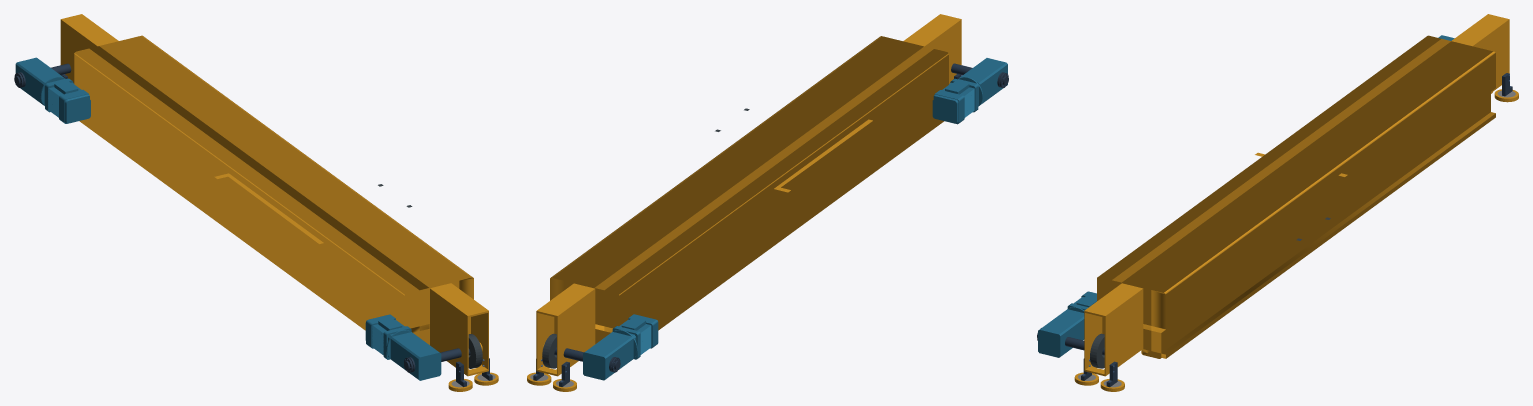
Rendered from body2.FBX.
3 views of the same model, side by side, from view 1: azimuth 30°, elevation 25°; view 2: azimuth 150°, elevation 25°; view 3: azimuth 330°, elevation 25° (orthographic).
Parts seen in each view (by area): view 1: 立方体_3, 下部滚轴; view 2: 立方体_3, 下部滚轴; view 3: 立方体_3, 下部滚轴.
Boxes of the visible parts, bbox=[...] form: 立方体_3: bbox=[74, 35, 473, 344]; 下部滚轴: bbox=[14, 14, 498, 391]; 立方体_3: bbox=[550, 36, 948, 343]; 下部滚轴: bbox=[527, 14, 1008, 391]; 立方体_3: bbox=[1097, 35, 1495, 358]; 下部滚轴: bbox=[1037, 14, 1518, 391].
Bounding box in the file's own units: 32 × 17.01 × 169.
